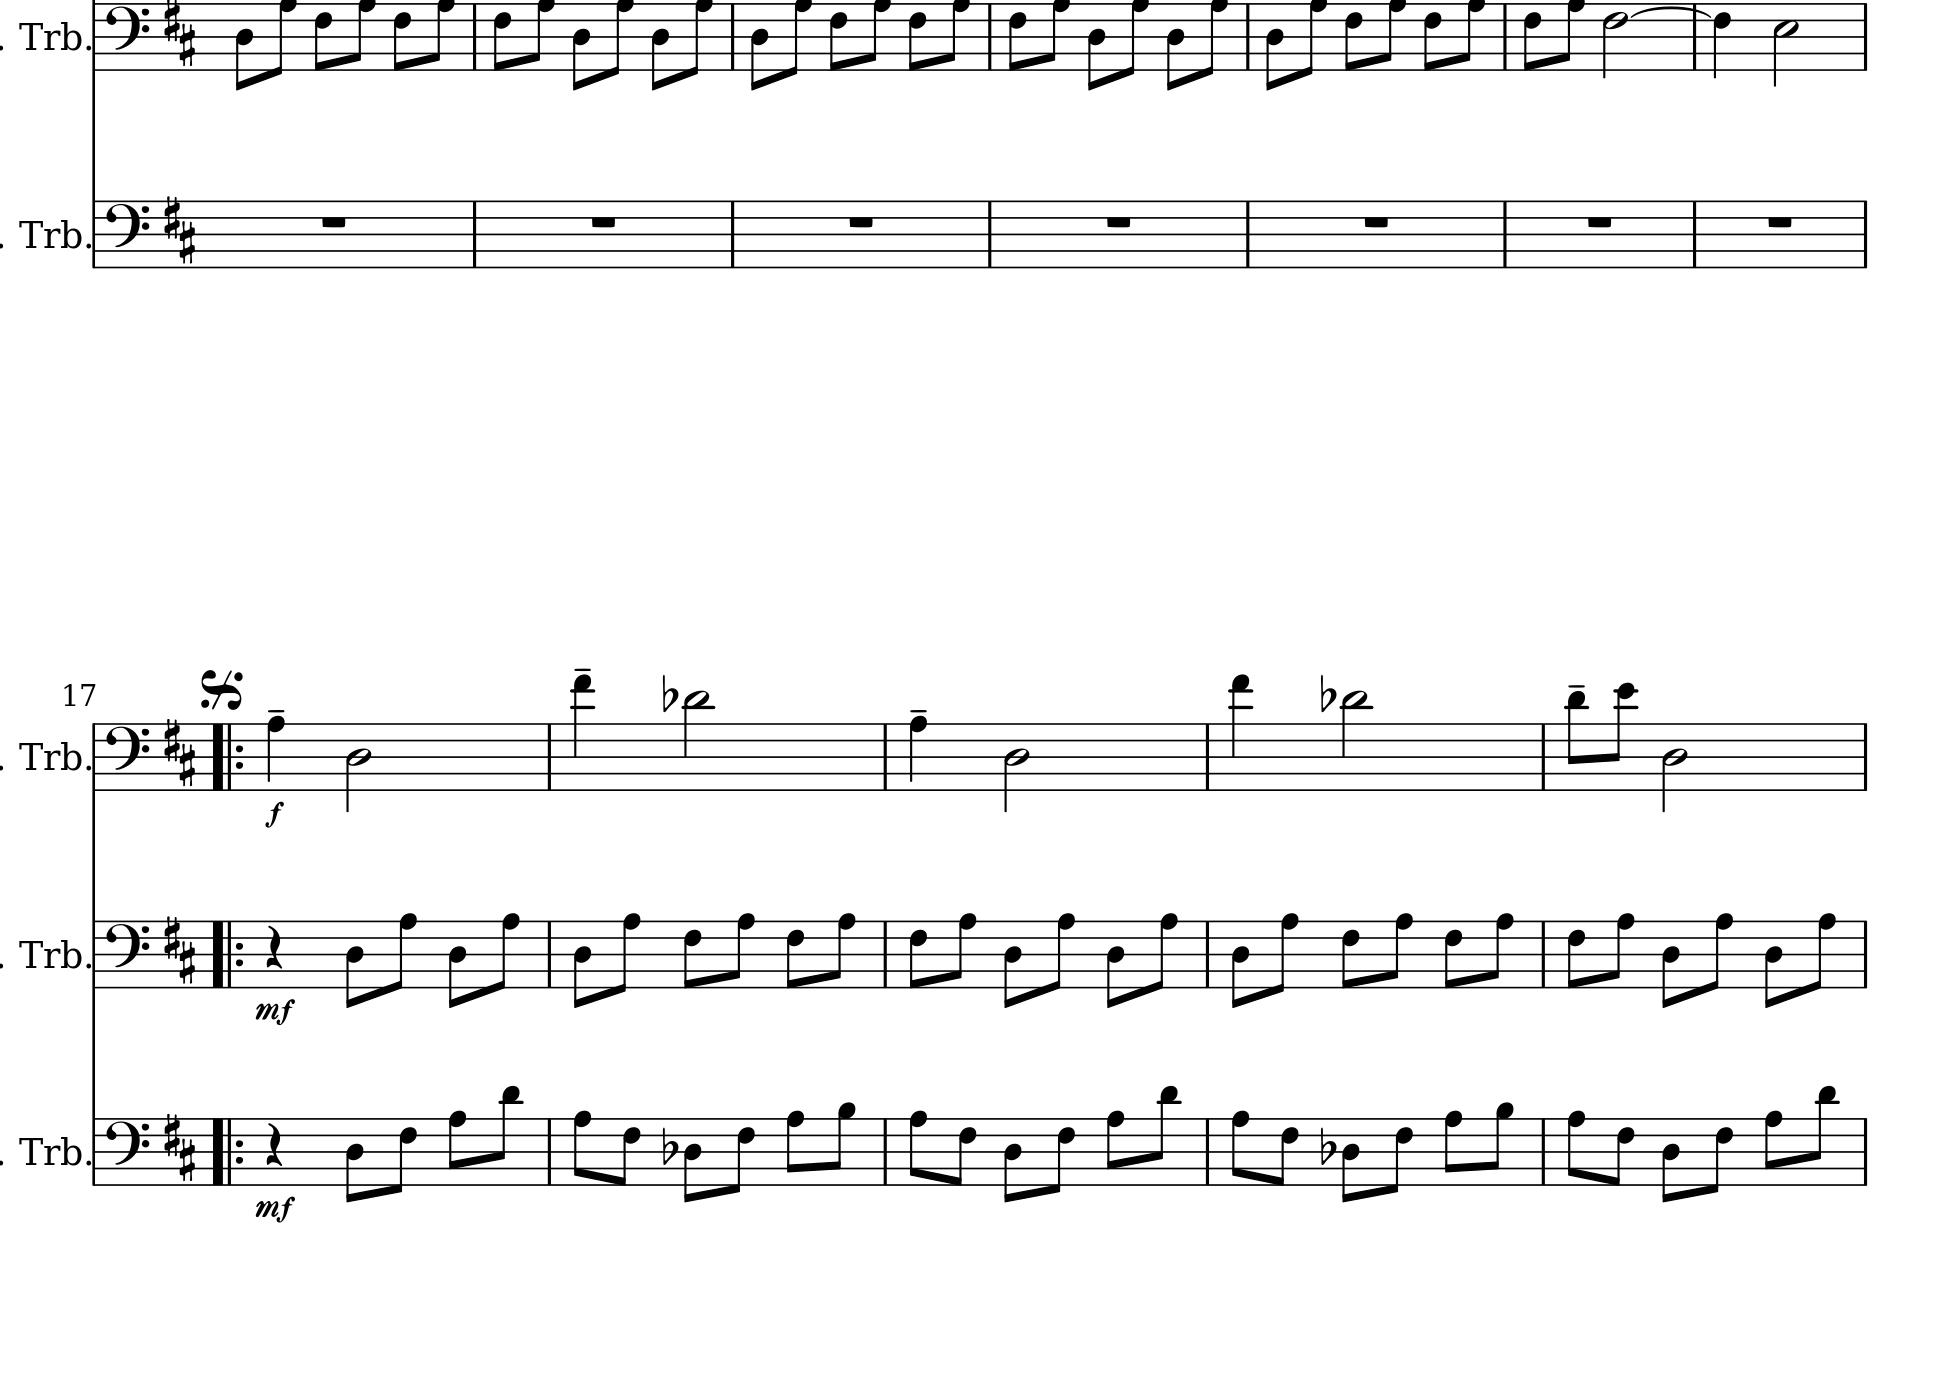1: (61, 679, 78, 709)
2_11: (1341, 688, 1371, 793), (682, 688, 711, 793)
2_4: (1002, 721, 1032, 814), (343, 721, 373, 813), (1662, 721, 1689, 814)
2_5: (1773, 3, 1801, 87)
2_6: (1602, 1, 1629, 79)
4_13: (571, 672, 595, 793), (1230, 673, 1254, 793)
4_6: (1713, 3, 1734, 79)
4_8: (907, 714, 930, 793), (265, 714, 286, 792)
7: (79, 679, 97, 709)
8_11: (490, 1083, 523, 1186), (1149, 1083, 1182, 1186), (1807, 1083, 1839, 1186), (1566, 688, 1590, 792)
8_12: (1605, 679, 1639, 792)
8_4: (570, 918, 594, 1009), (1228, 918, 1252, 1009), (1659, 918, 1683, 1009), (1761, 918, 1785, 1009), (1263, 3, 1287, 93), (1659, 1116, 1683, 1204), (570, 1, 592, 93), (445, 918, 468, 1009), (1104, 918, 1126, 1009), (748, 3, 771, 93), (232, 4, 255, 93), (1164, 3, 1186, 91), (681, 1116, 703, 1204), (1339, 1116, 1362, 1204), (343, 918, 364, 1009), (1086, 1, 1107, 91), (1002, 918, 1023, 1008), (649, 3, 670, 91), (343, 1116, 364, 1204), (1002, 1116, 1023, 1204)
8_6: (724, 1116, 756, 1195), (1047, 1114, 1077, 1195), (1705, 1114, 1735, 1195), (388, 1116, 418, 1195), (1384, 1116, 1414, 1195), (613, 1116, 642, 1188), (949, 1116, 978, 1186), (1272, 1117, 1300, 1188), (1609, 1116, 1636, 1188), (490, 1, 514, 73), (312, 1, 334, 73), (391, 1, 414, 73), (828, 1, 850, 73), (1522, 1, 1545, 73), (784, 918, 807, 990), (907, 918, 930, 990), (1443, 918, 1465, 990), (1566, 918, 1588, 990), (907, 1, 928, 73), (1008, 1, 1029, 73), (1344, 1, 1365, 73), (1423, 1, 1444, 73), (682, 918, 703, 990), (1341, 918, 1362, 990)
8_8: (610, 910, 643, 994), (1269, 910, 1302, 994), (1806, 910, 1839, 991), (267, 1, 300, 79), (387, 910, 418, 991), (490, 910, 522, 991), (1045, 910, 1077, 991), (1149, 910, 1180, 991), (1704, 910, 1735, 991), (604, 1, 637, 76), (1299, 1, 1332, 76), (726, 910, 757, 988), (826, 910, 858, 988), (1485, 910, 1516, 988), (784, 1, 816, 76), (1120, 1, 1152, 76), (948, 910, 978, 988), (1386, 910, 1416, 988), (1606, 910, 1636, 988), (346, 1, 379, 72), (526, 1, 559, 72), (427, 1, 459, 73), (862, 1, 894, 72), (1044, 1, 1075, 72), (1378, 1, 1410, 72), (445, 1108, 468, 1188), (1104, 1108, 1126, 1188), (1566, 1108, 1588, 1188), (1762, 1108, 1785, 1188), (571, 1108, 594, 1186), (784, 1108, 807, 1186), (907, 1108, 930, 1186), (1230, 1108, 1252, 1186), (1443, 1108, 1465, 1186)
8_9: (826, 1101, 856, 1186), (1485, 1101, 1515, 1186)
D_S: (162, 192, 198, 264), (162, 715, 196, 787), (162, 913, 196, 985), (162, 1110, 196, 1182), (162, 1, 196, 66)
Fclef: (103, 196, 150, 268), (103, 721, 150, 793), (103, 918, 150, 990), (103, 1114, 150, 1186), (103, 1, 148, 72)
Flat: (1318, 1125, 1336, 1165), (660, 1123, 676, 1165), (661, 670, 676, 712), (1320, 672, 1335, 712)
LeftRepeatSign: (210, 1116, 244, 1186), (210, 721, 244, 790), (210, 919, 244, 988)
Rests1: (1764, 211, 1797, 232), (316, 211, 349, 229), (1584, 213, 1617, 231), (586, 213, 619, 229), (844, 213, 877, 229), (1104, 213, 1135, 229), (1362, 213, 1392, 229)
Rests4: (262, 922, 283, 970), (262, 1120, 283, 1168)
Segno: (196, 664, 246, 712)
Single_barline: (466, 1, 484, 70), (1497, 1, 1515, 70), (541, 721, 559, 790), (1200, 723, 1218, 790), (876, 1117, 894, 1183), (724, 1, 741, 70), (982, 1, 999, 70), (1240, 1, 1257, 70), (1857, 1, 1873, 70), (1855, 199, 1872, 268), (1497, 199, 1513, 268), (1687, 199, 1704, 268), (877, 721, 894, 790), (1536, 723, 1552, 790), (1857, 723, 1873, 790), (541, 919, 558, 987), (877, 919, 894, 987), (1200, 919, 1216, 987), (1536, 919, 1552, 987), (1857, 1117, 1873, 1185), (1240, 201, 1257, 267), (541, 1117, 558, 1183), (1200, 1117, 1216, 1183), (1536, 1117, 1552, 1183), (1687, 6, 1704, 70), (1858, 919, 1873, 988), (87, 919, 102, 988), (88, 3, 103, 70), (87, 723, 102, 790), (466, 201, 481, 267), (724, 201, 739, 267), (982, 201, 997, 267), (88, 1117, 102, 1185), (88, 199, 100, 268)
Slur: (1629, 6, 1713, 18)
Trb: (15, 208, 82, 253), (16, 13, 82, 55), (16, 933, 82, 973), (16, 1129, 82, 1170), (16, 736, 82, 775)
f: (262, 799, 286, 828)
mf: (253, 994, 297, 1029), (253, 1192, 297, 1225)
